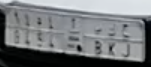4: (47, 18, 56, 49), (24, 13, 31, 46)
5: (36, 17, 44, 48)
8: (12, 12, 21, 45)
B: (94, 27, 103, 56)
J: (120, 23, 131, 58)
K: (107, 24, 117, 57)
